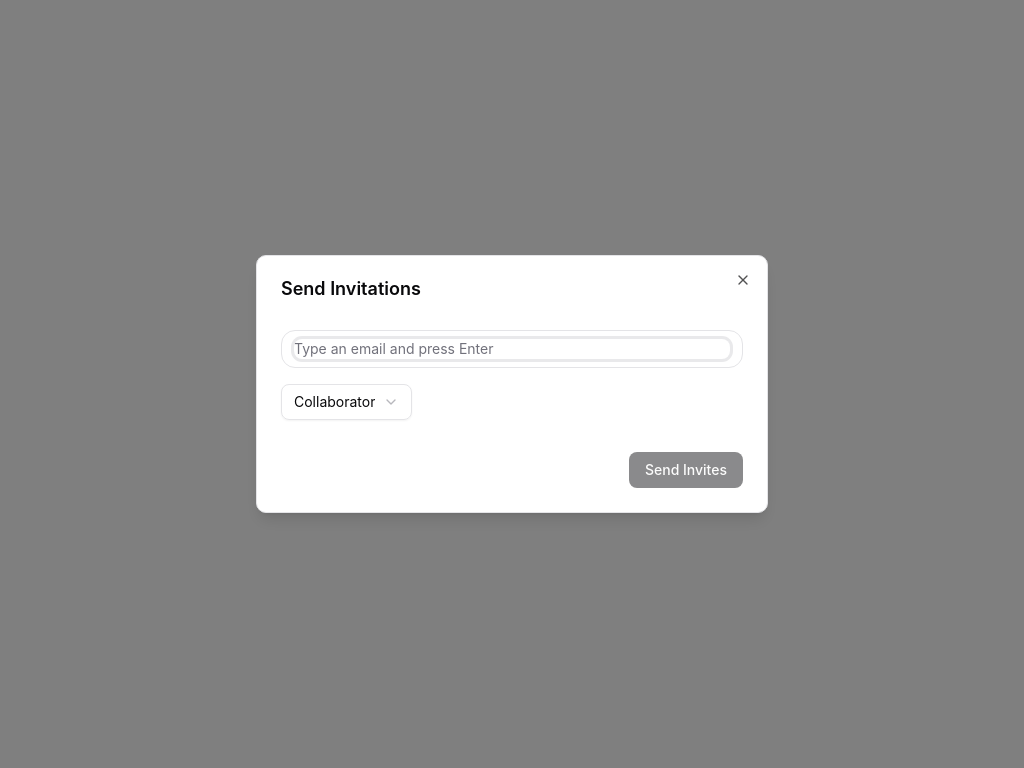
Test: Components - InvitationDialog › should enable Send Invites after a valid email is added
This screenshot has width=1024, height=768.
Step 1. Type "user@example.com" into the field with placeholder "Type an email and press Enter" → x=512, y=349, box [294,339,730,359]
Then press Enter
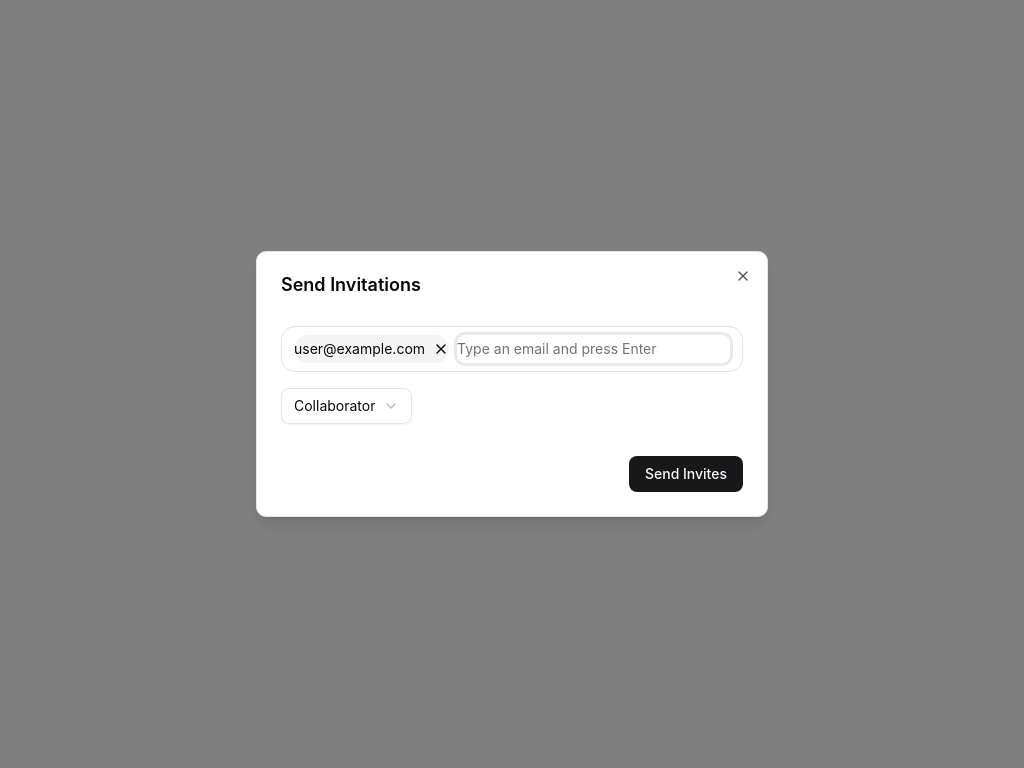
Expected: the button "Send Invites" is enabled, [629,456,743,492]
